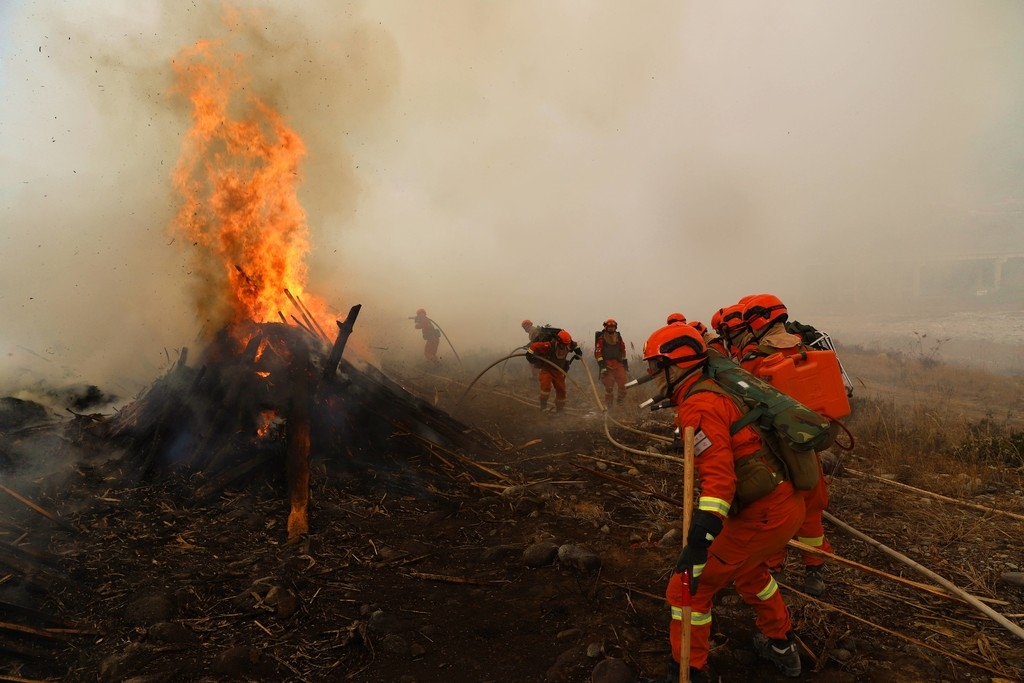fire: (42, 1, 409, 578), (125, 2, 361, 291), (172, 290, 395, 399), (242, 405, 334, 548)
